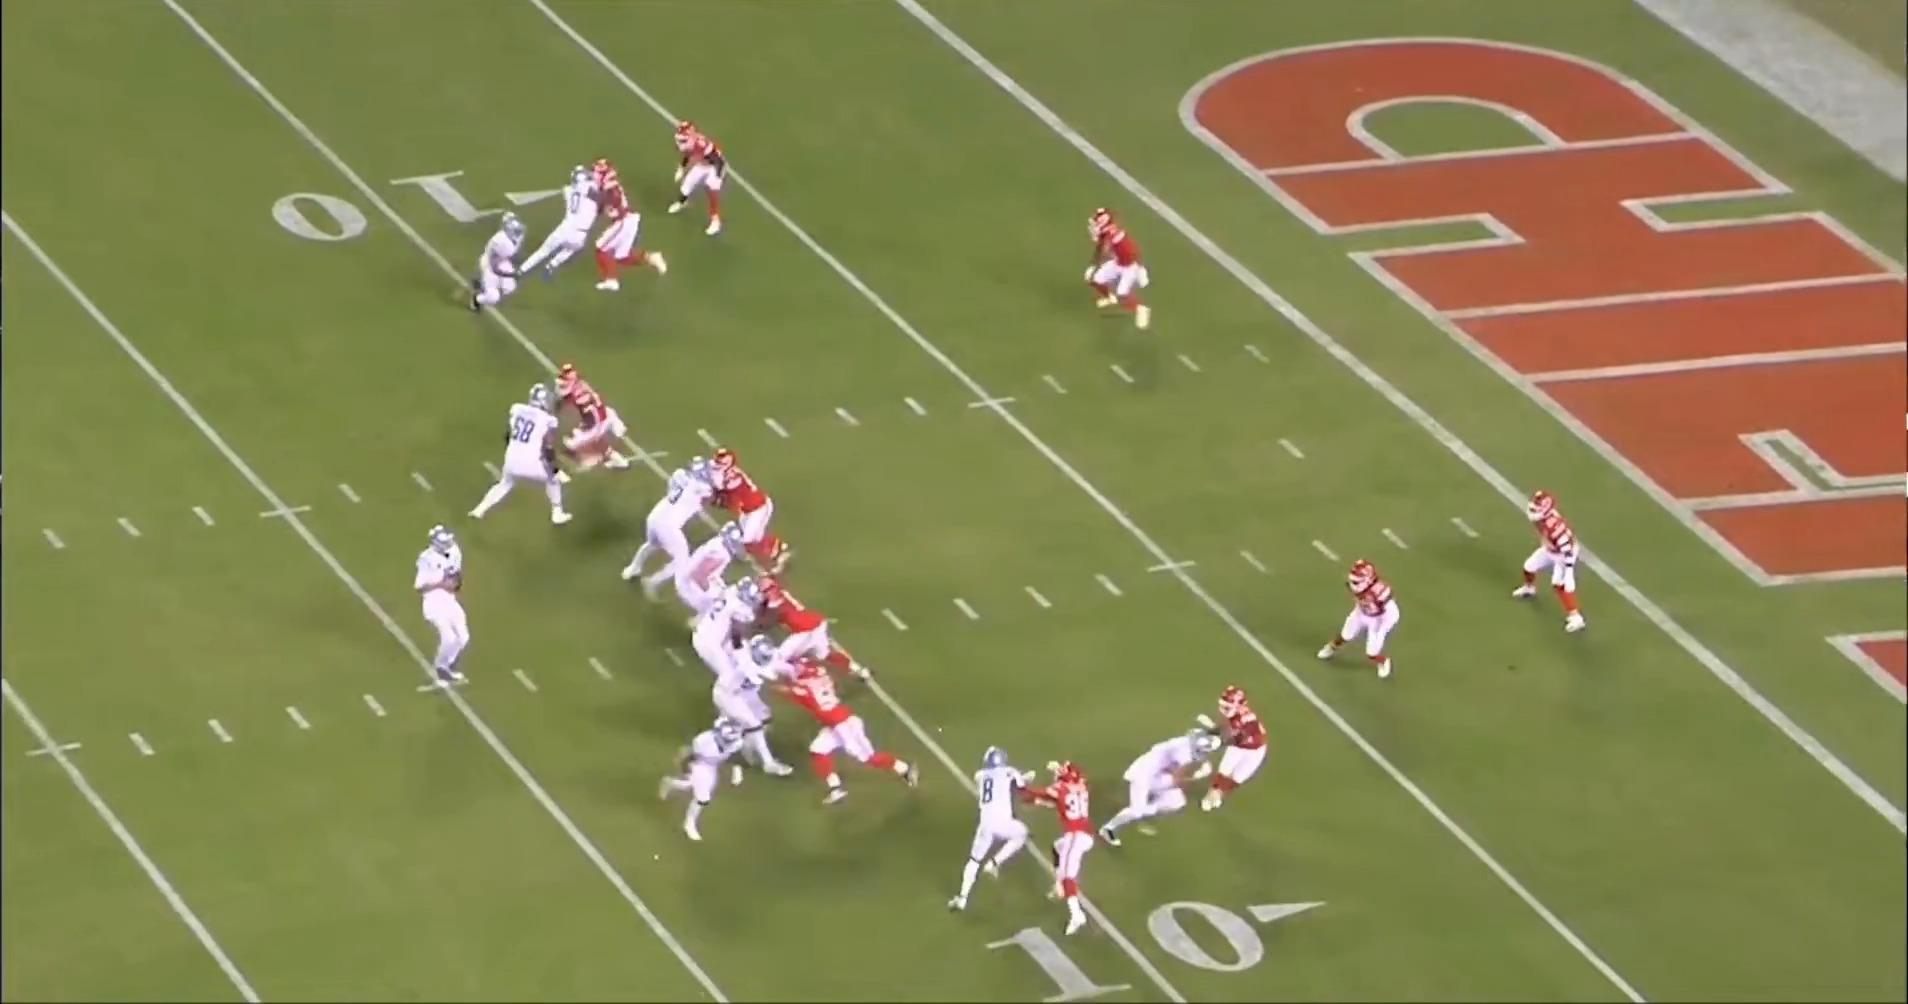defense: (799, 657, 923, 802), (1035, 759, 1112, 941), (590, 152, 677, 296), (1512, 488, 1586, 638), (1319, 557, 1406, 682), (770, 579, 874, 683), (1070, 208, 1150, 339), (1196, 685, 1269, 817), (710, 453, 787, 571), (557, 365, 636, 469), (673, 121, 739, 240)
oline: (466, 382, 566, 528), (619, 452, 722, 588), (717, 629, 806, 784), (693, 569, 778, 719), (677, 520, 751, 622)
qb: (412, 523, 481, 703)
skill: (1098, 713, 1233, 850), (950, 743, 1045, 921), (652, 715, 744, 849), (525, 155, 600, 293), (472, 215, 534, 318)
